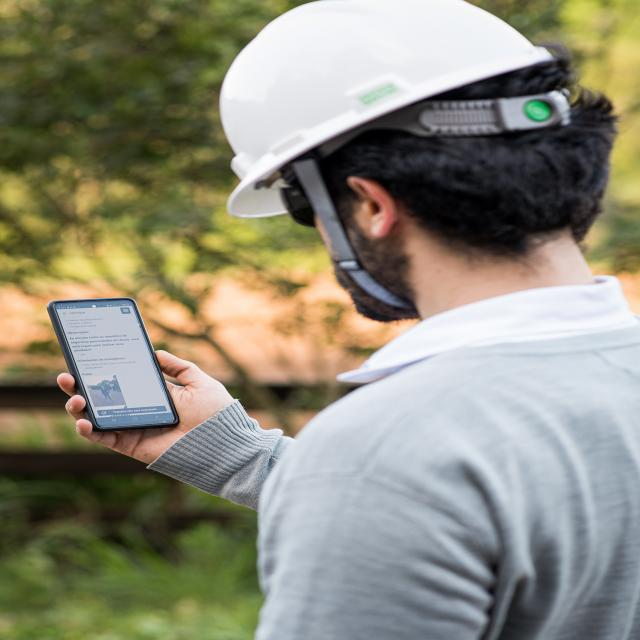capacete: (215, 1, 567, 223)
